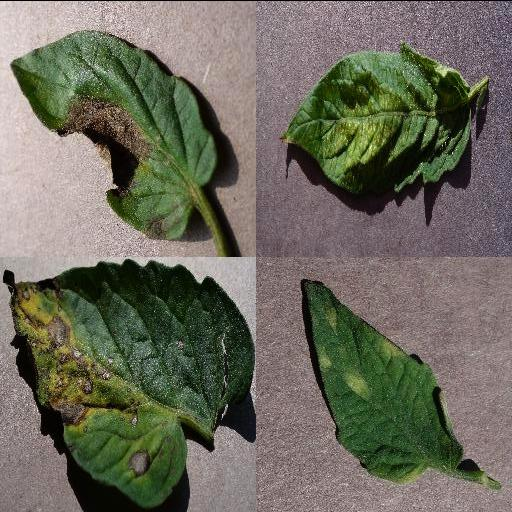Early Blight: (2, 258, 256, 505)
Late Blight: (9, 28, 219, 238)
Leaf Mold: (304, 278, 466, 481)
Spider Mites: (278, 44, 474, 196)
